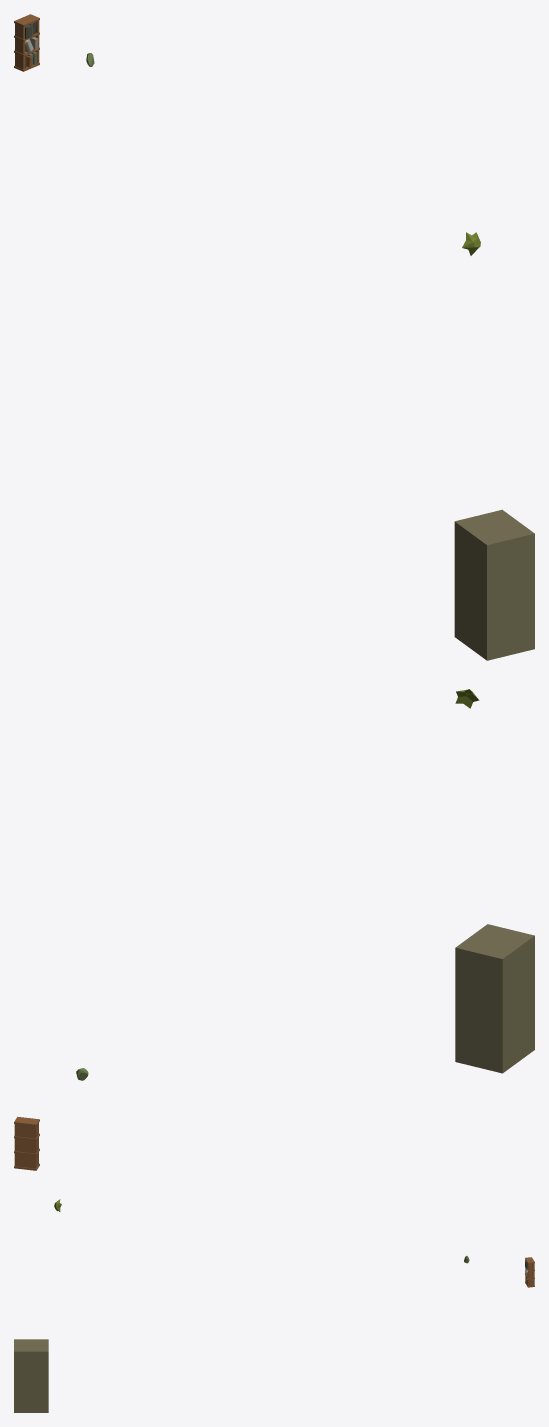
The picture shows the model from 3 angles, top to bottom: view 1: azimuth 30°, elevation 25°; view 2: azimuth 150°, elevation 25°; view 3: azimuth 270°, elevation 25°; orthographic projection. The views are drawn at different scales.
Parts seen in each view (by area): view 1: Box212_rock2_0, Box15226_brown_0; view 2: Box212_rock2_0, Box15226_brown_0; view 3: Box212_rock2_0.
Part boxes in pixels (x1,y1,x2,y2): Box212_rock2_0: (454, 509, 534, 660); Box15226_brown_0: (14, 14, 39, 71); Box212_rock2_0: (455, 924, 534, 1073); Box15226_brown_0: (14, 1116, 39, 1170); Box212_rock2_0: (14, 1339, 48, 1412).
Bounding box in the file's own units: 282 × 2204 × 5020.
